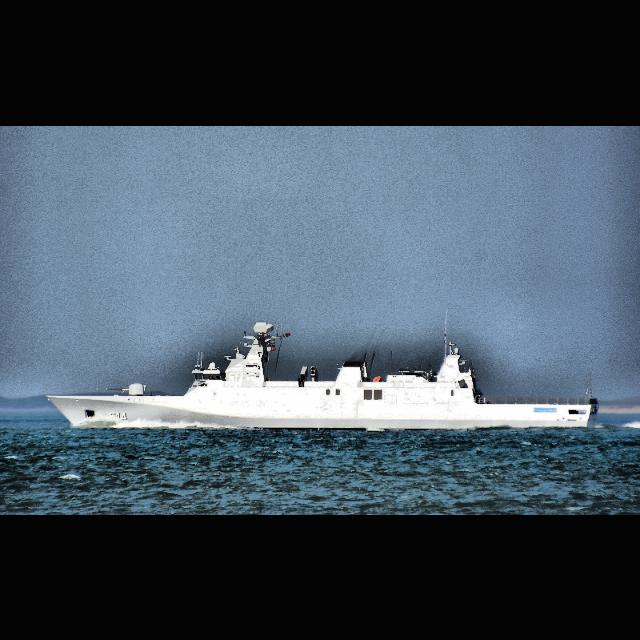combat_vessel: (44, 320, 600, 430)
